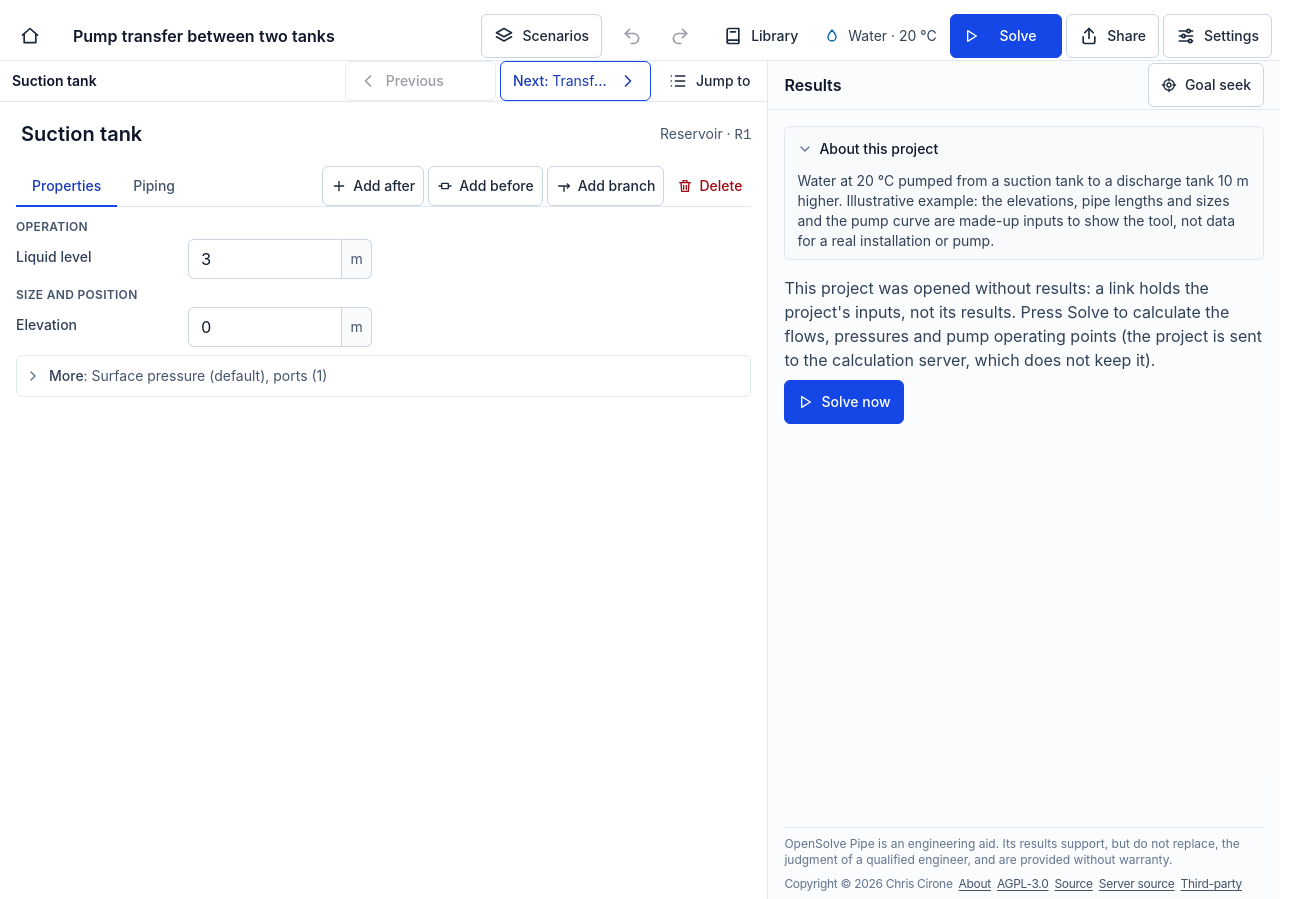
Scenario: method-version notice › keeps focus in the notice when trying again, and announces the outcome
Click the button "Solve" at (1006,36), box [950, 14, 1062, 58]
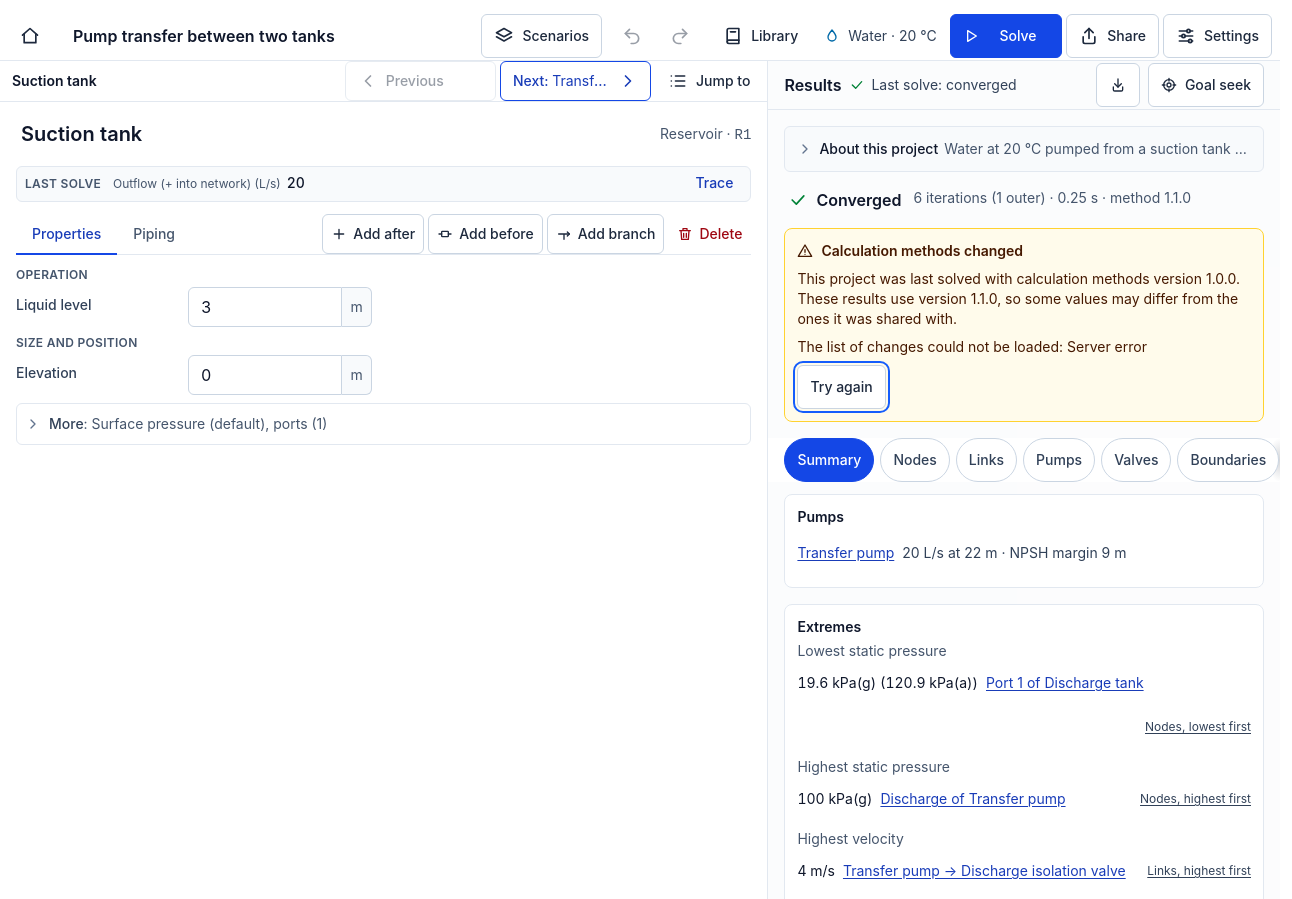
Expected: the message "The list of changes could not be loaded: Server error" is shown, [797, 338, 1147, 355]
Click the button "Try again" at (842,387), box [797, 365, 886, 409]
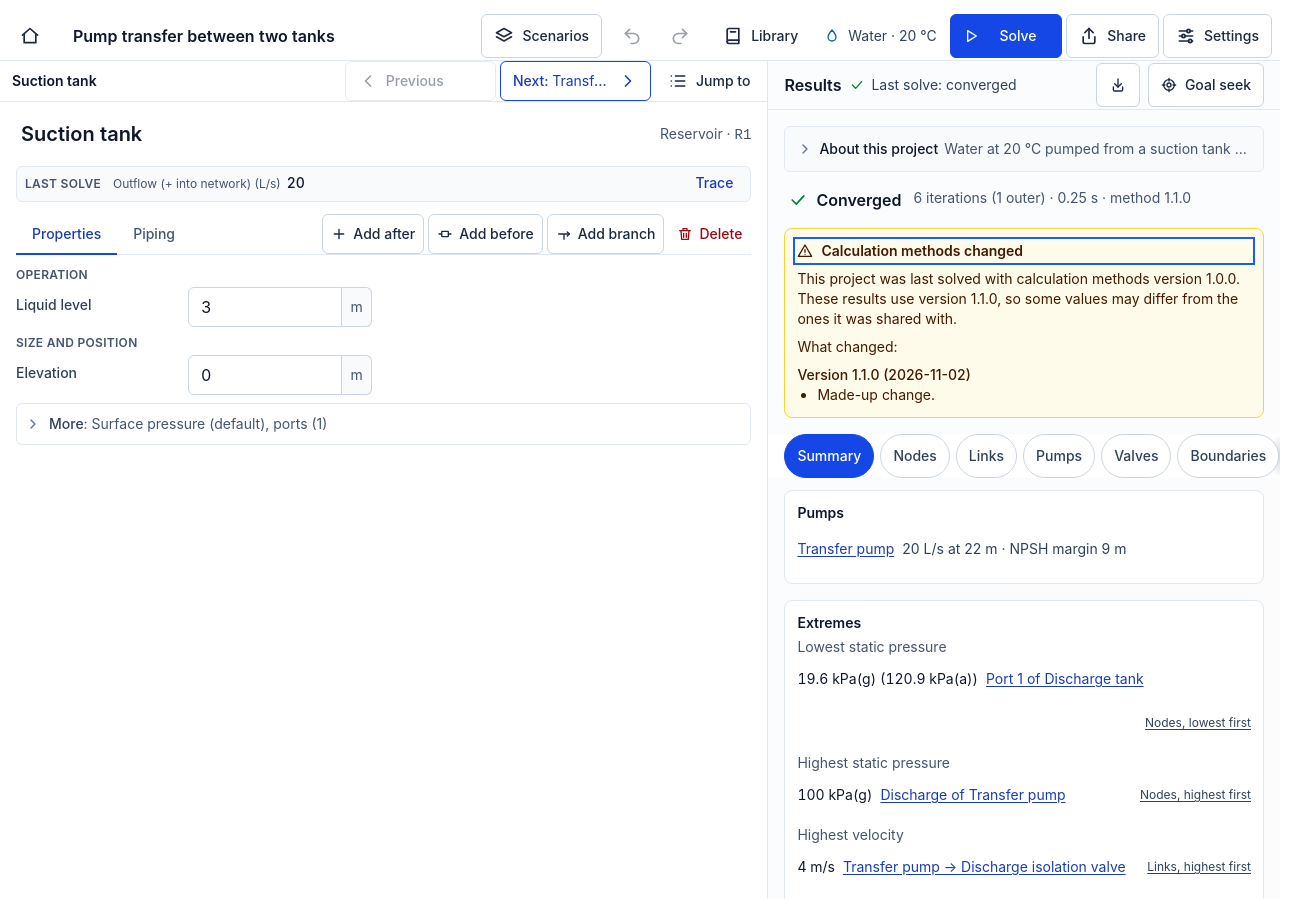
Expected: the message "What changed:" is shown, [797, 338, 898, 355]
Expected: the list item "Made-up change." is shown, [817, 386, 935, 403]
